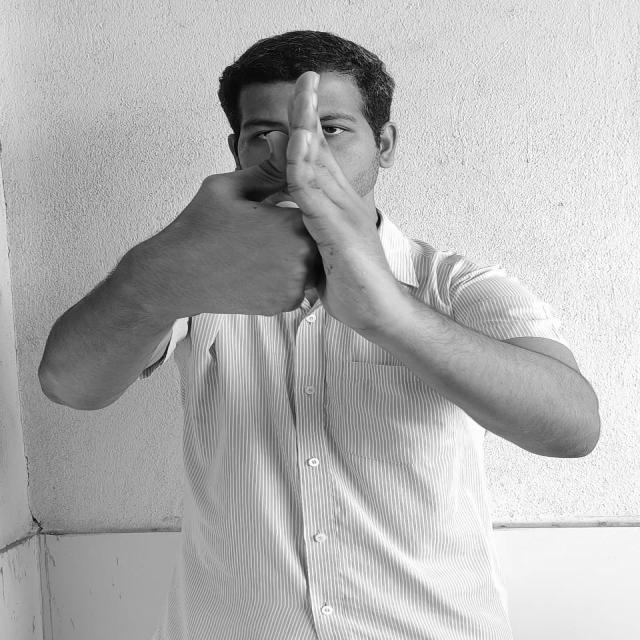Well Done: (208, 66, 376, 332)
